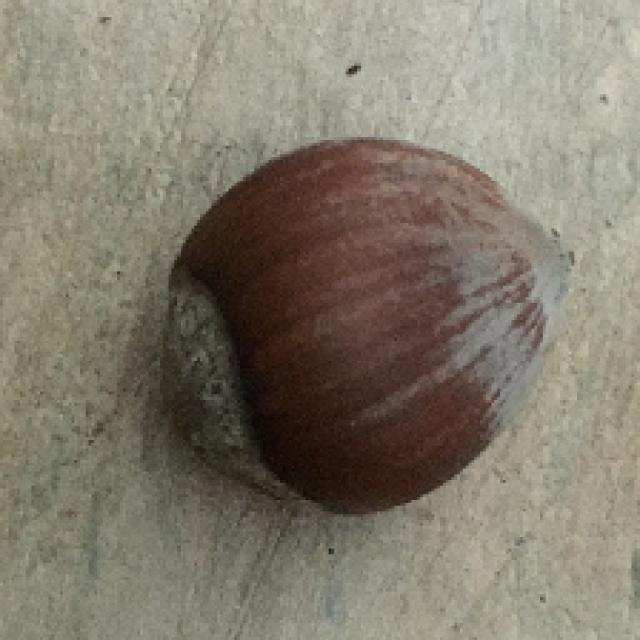qualityHazelnut: (149, 126, 595, 525)
